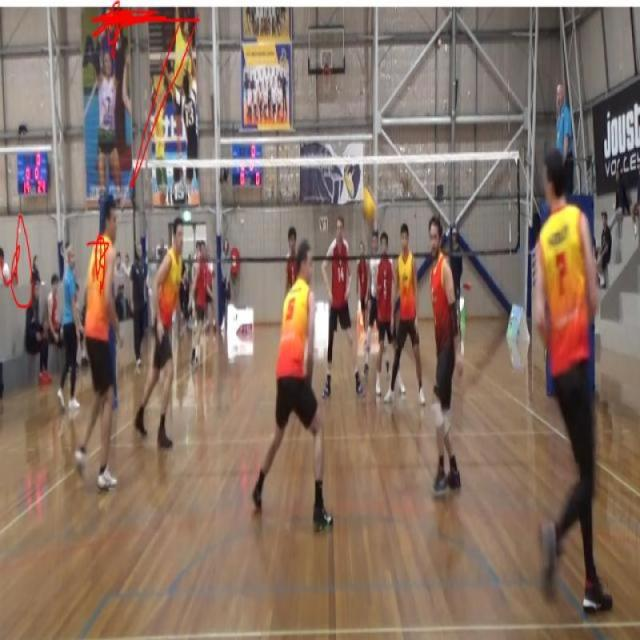volleyball: (359, 184, 377, 228)
